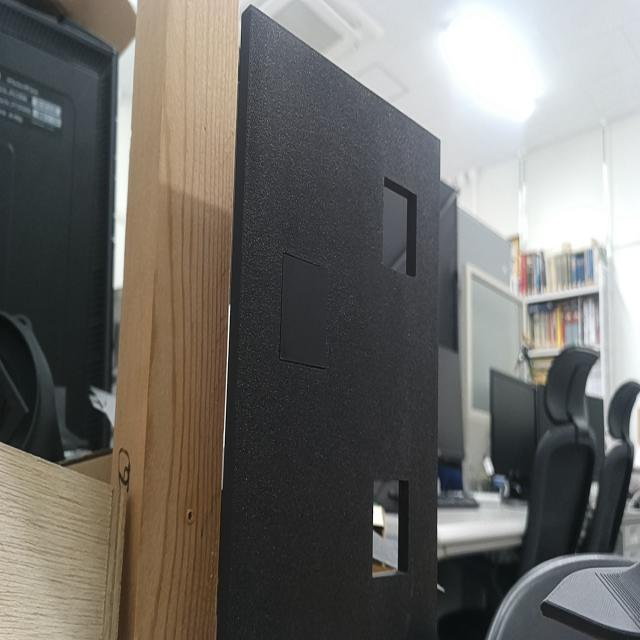Obstacle: (373, 479, 408, 577), (383, 177, 417, 275)
Wall: (231, 7, 441, 639)
